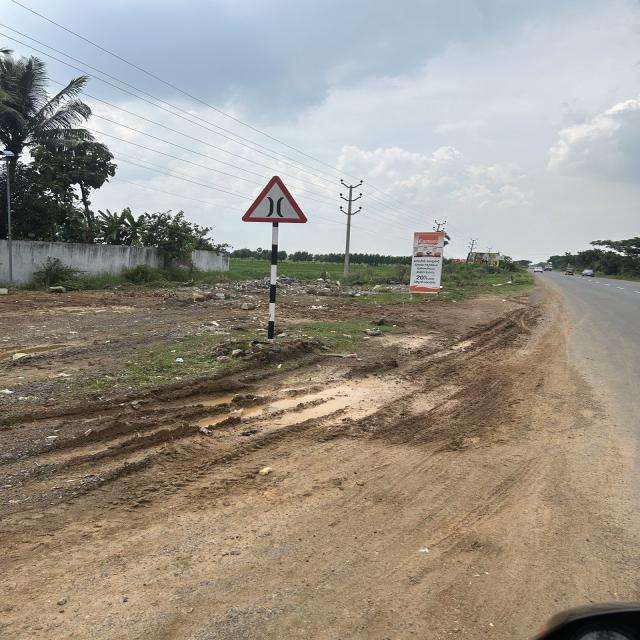narrow bridge ahead: (243, 176, 309, 223)
